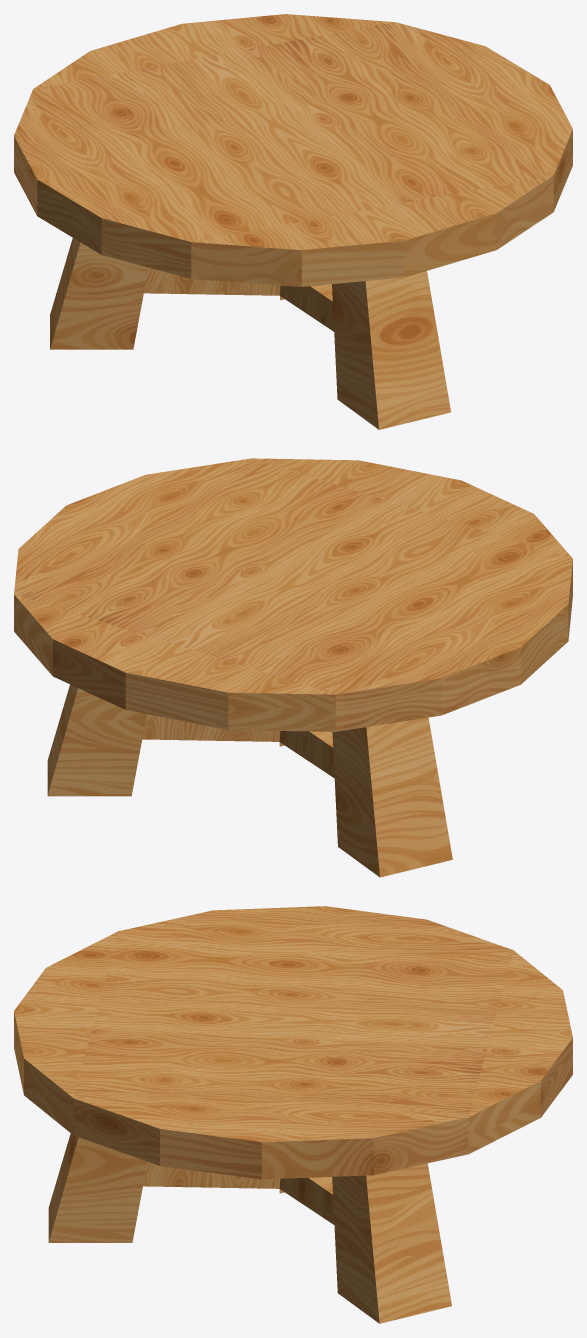
Rendered from Livingroom_Table_3_Drop.fbx.
3 renders of one model, top to bottom at view 1: azimuth 30°, elevation 25°; view 2: azimuth 150°, elevation 25°; view 3: azimuth 270°, elevation 25°, orthographic.
Visible parts, largest first — view 1: Livingroom_Table_3_Drop.000, Livingroom_Table_3_Drop.003, Livingroom_Table_3_Drop.001, Livingroom_Table_3_Drop.007, Livingroom_Table_3_Drop.006; view 2: Livingroom_Table_3_Drop.000, Livingroom_Table_3_Drop.001, Livingroom_Table_3_Drop.002, Livingroom_Table_3_Drop.005, Livingroom_Table_3_Drop.007; view 3: Livingroom_Table_3_Drop.000, Livingroom_Table_3_Drop.002, Livingroom_Table_3_Drop.003, Livingroom_Table_3_Drop.006, Livingroom_Table_3_Drop.005.
Part boxes in pixels (x1,y1,x2,y2): Livingroom_Table_3_Drop.000: (14,14,572,286); Livingroom_Table_3_Drop.003: (332,271,450,429); Livingroom_Table_3_Drop.001: (50,238,148,349); Livingroom_Table_3_Drop.007: (144,267,280,295); Livingroom_Table_3_Drop.006: (279,284,334,331); Livingroom_Table_3_Drop.000: (14,458,572,731); Livingroom_Table_3_Drop.001: (332,717,452,877); Livingroom_Table_3_Drop.002: (47,684,146,796); Livingroom_Table_3_Drop.005: (142,714,280,741); Livingroom_Table_3_Drop.007: (279,731,334,778); Livingroom_Table_3_Drop.000: (14,906,572,1179); Livingroom_Table_3_Drop.002: (332,1163,451,1323); Livingroom_Table_3_Drop.003: (48,1133,147,1242); Livingroom_Table_3_Drop.006: (143,1162,280,1188); Livingroom_Table_3_Drop.005: (279,1177,334,1224).
Size of the model in its own units: 135 by 53.44 by 135.
